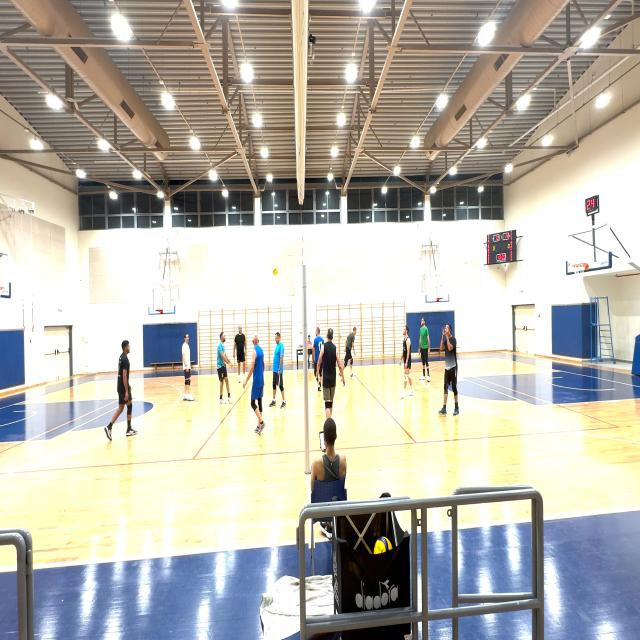volleyball: (373, 536, 393, 555), (272, 268, 278, 275)
